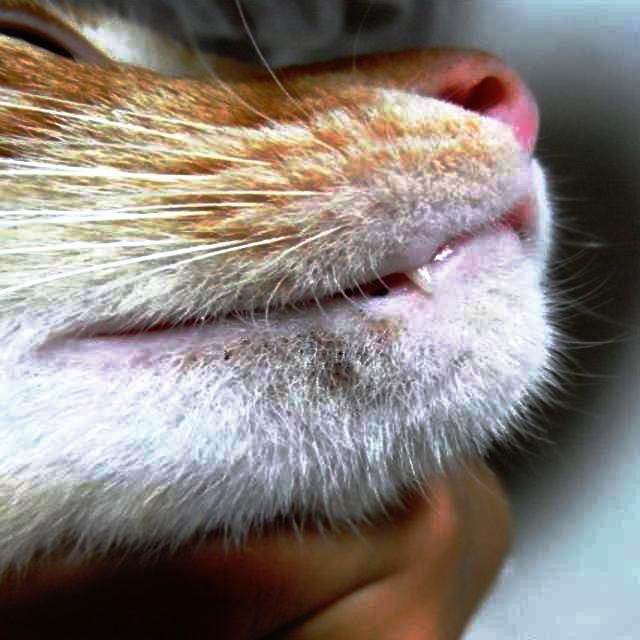acne: (214, 332, 409, 401)
